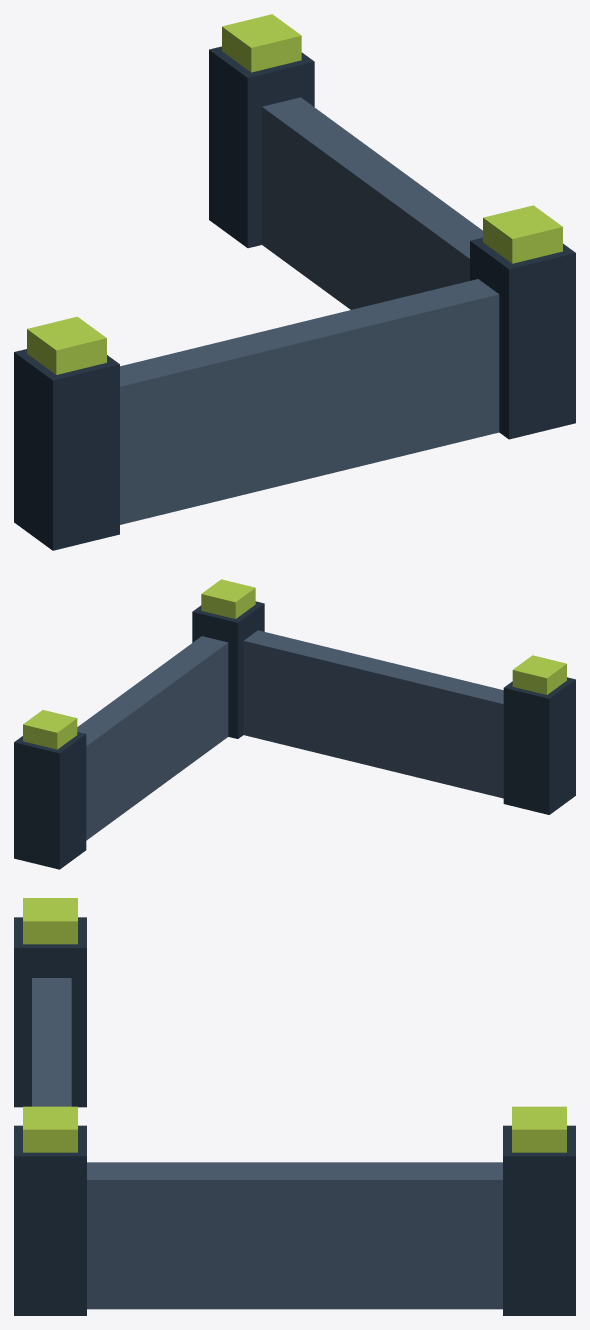
Rendered from Fence_2-2.fbx.
The picture shows the model from 3 angles, top to bottom: view 1: azimuth 30°, elevation 25°; view 2: azimuth 150°, elevation 25°; view 3: azimuth 270°, elevation 25°; orthographic projection. The views are drawn at different scales.
Visible parts, largest first — view 1: Fence_2-2; view 2: Fence_2-2; view 3: Fence_2-2.
Boxes of the visible parts, left/top/right/bottom form: Fence_2-2: left=14, top=14, right=575, bottom=550; Fence_2-2: left=14, top=579, right=575, bottom=869; Fence_2-2: left=14, top=898, right=575, bottom=1315.
Bounding box in the file's own units: 34.92 × 12.44 × 34.71.
